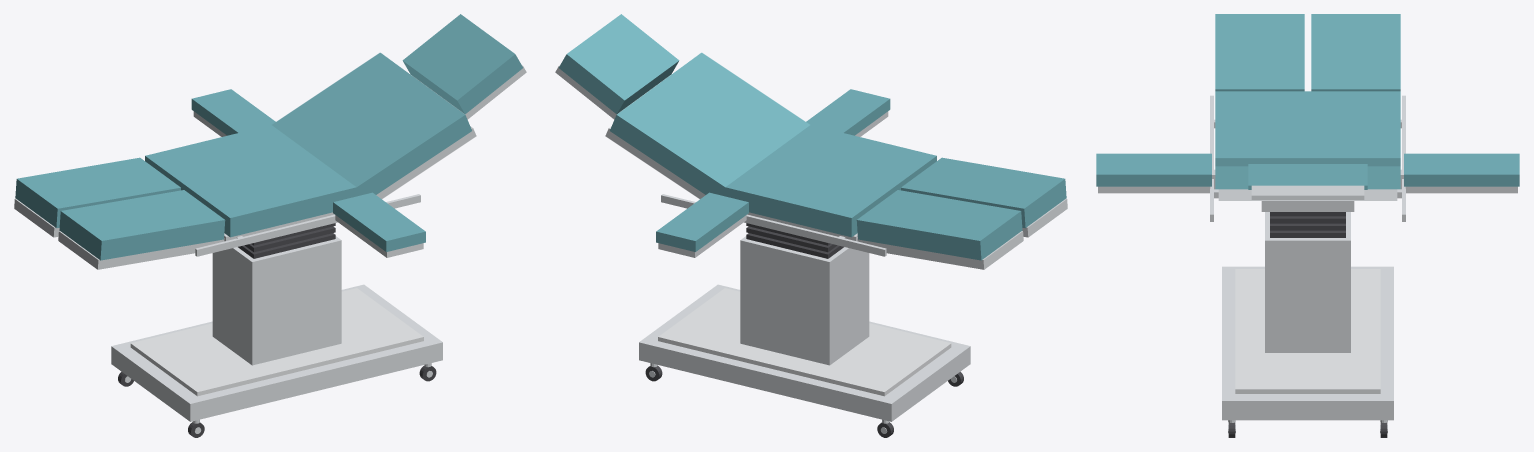
File: operatingRoom_chair_v1.fbx
The picture shows the model from 3 angles, left to right: view 1: azimuth 30°, elevation 25°; view 2: azimuth 150°, elevation 25°; view 3: azimuth 270°, elevation 25°; orthographic projection. The views are drawn at different scales.
Parts seen in each view (by area): view 1: 01_SurgicalTable_Intact_Mesh; view 2: 01_SurgicalTable_Intact_Mesh; view 3: 01_SurgicalTable_Intact_Mesh.
Part boxes in pixels (x1=…): 01_SurgicalTable_Intact_Mesh: x1=14, y1=14, x2=526, y2=437; 01_SurgicalTable_Intact_Mesh: x1=555, y1=14, x2=1067, y2=437; 01_SurgicalTable_Intact_Mesh: x1=1096, y1=14, x2=1519, y2=437.
Bounding box in the file's own units: 169 × 108 × 128.
